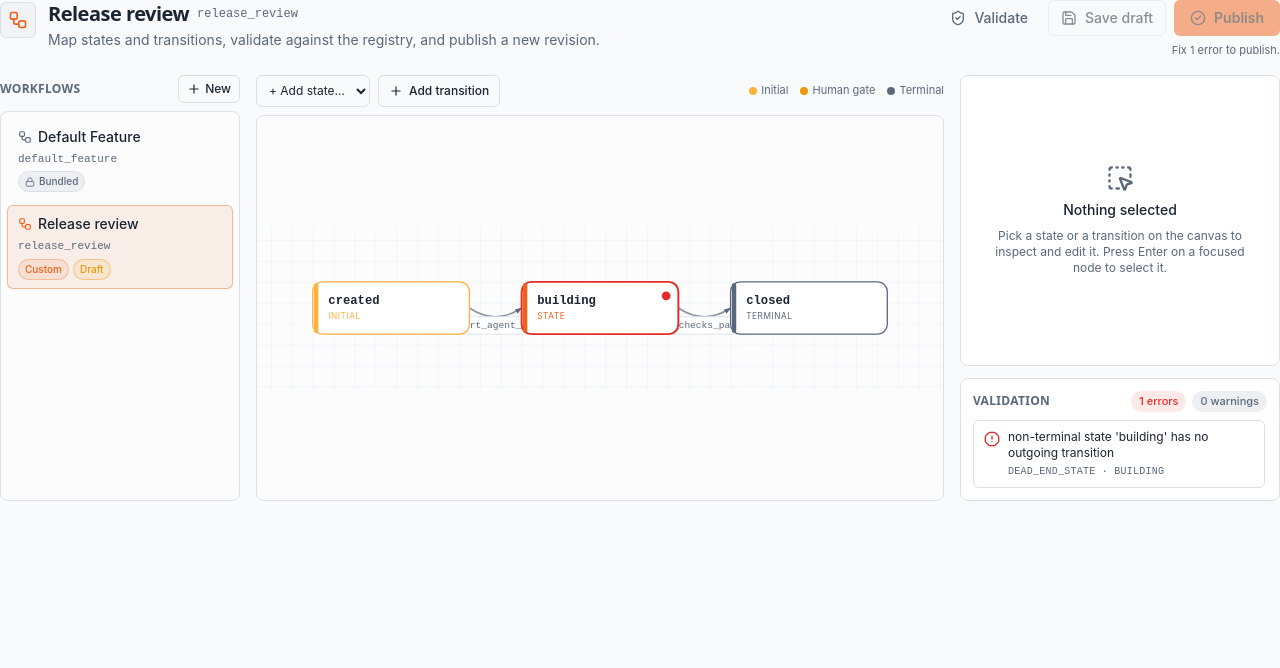
Test: WorkflowEditor › adds a transition and focuses it for editing
This screenshot has width=1280, height=668.
Expected: the icon with test id "workflow-canvas" is shown, [257, 116, 943, 500]
Click the button with test id "add-transition".
click(439, 90)  # box [378, 74, 500, 106]
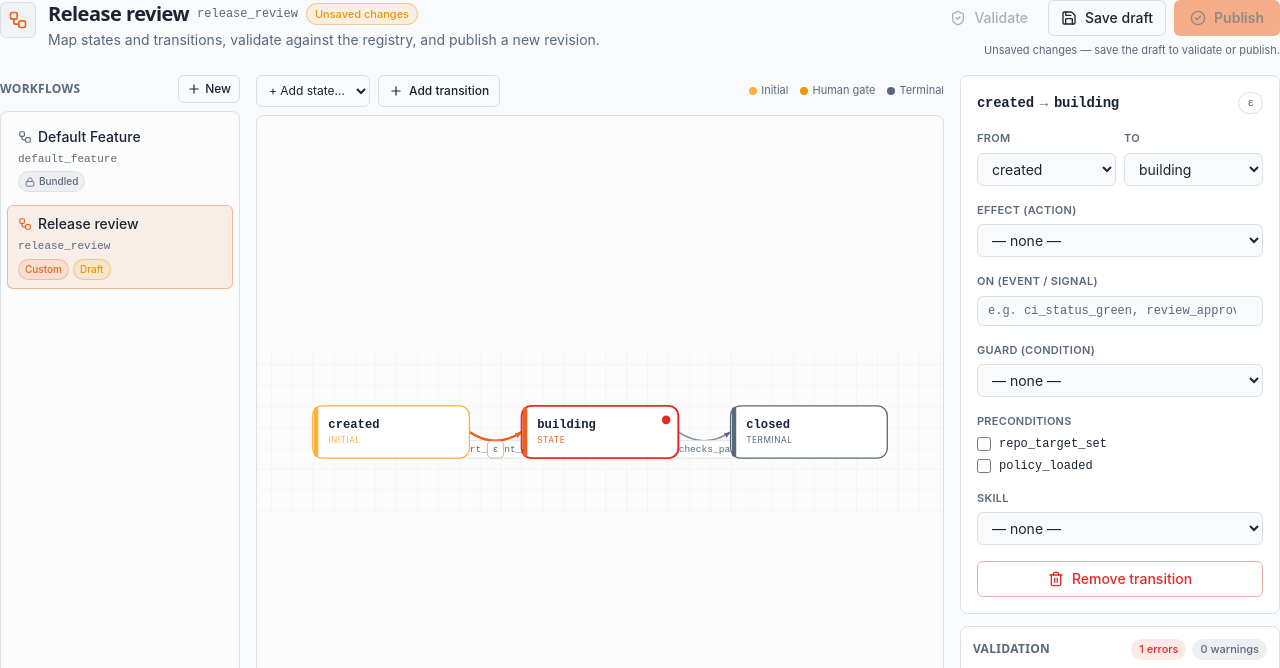
Expected: the element with test id "edge-inspector" is shown, [961, 76, 1279, 613]
Expected: the text "Unsaved changes" is shown, [306, 3, 418, 25]
